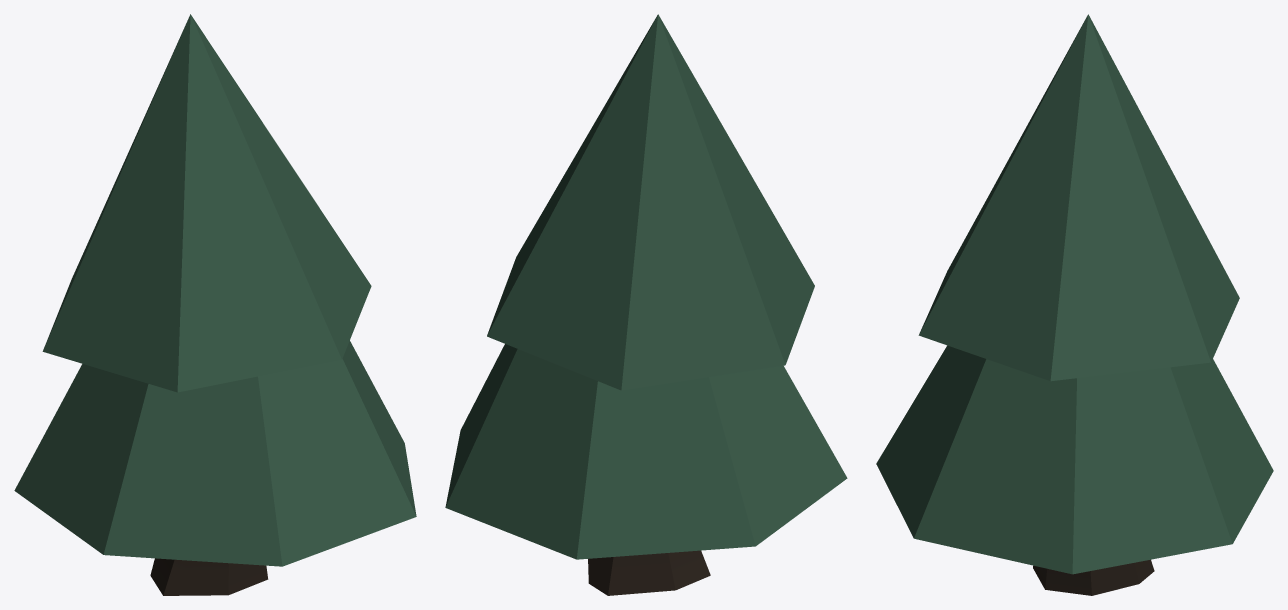
The model's file is Little Pine.fbx.
3 renders of one model, left to right at view 1: azimuth 30°, elevation 25°; view 2: azimuth 150°, elevation 25°; view 3: azimuth 270°, elevation 25°, orthographic. The views are drawn at different scales.
Parts seen in each view (by area): view 1: Pine_Tree6_pCylinder9; view 2: Pine_Tree6_pCylinder9; view 3: Pine_Tree6_pCylinder9.
Part boxes in pixels (x1,y1,x2,y2): Pine_Tree6_pCylinder9: (14,14,416,595); Pine_Tree6_pCylinder9: (445,14,847,595); Pine_Tree6_pCylinder9: (876,14,1273,595).
Bounding box in the file's own units: 2.29 × 3.57 × 2.34.
